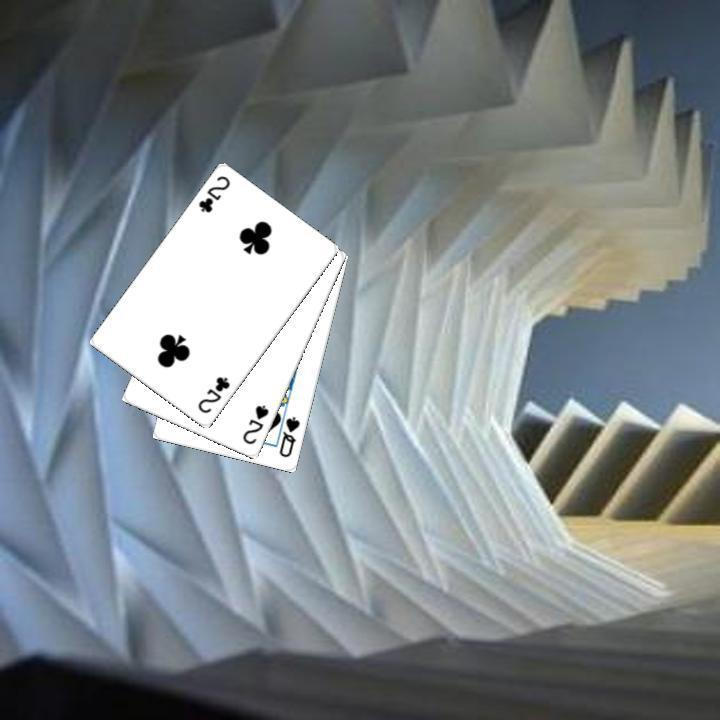2: (193, 372, 232, 416), (194, 171, 232, 215), (238, 401, 271, 447)
Q: (275, 412, 302, 460)
